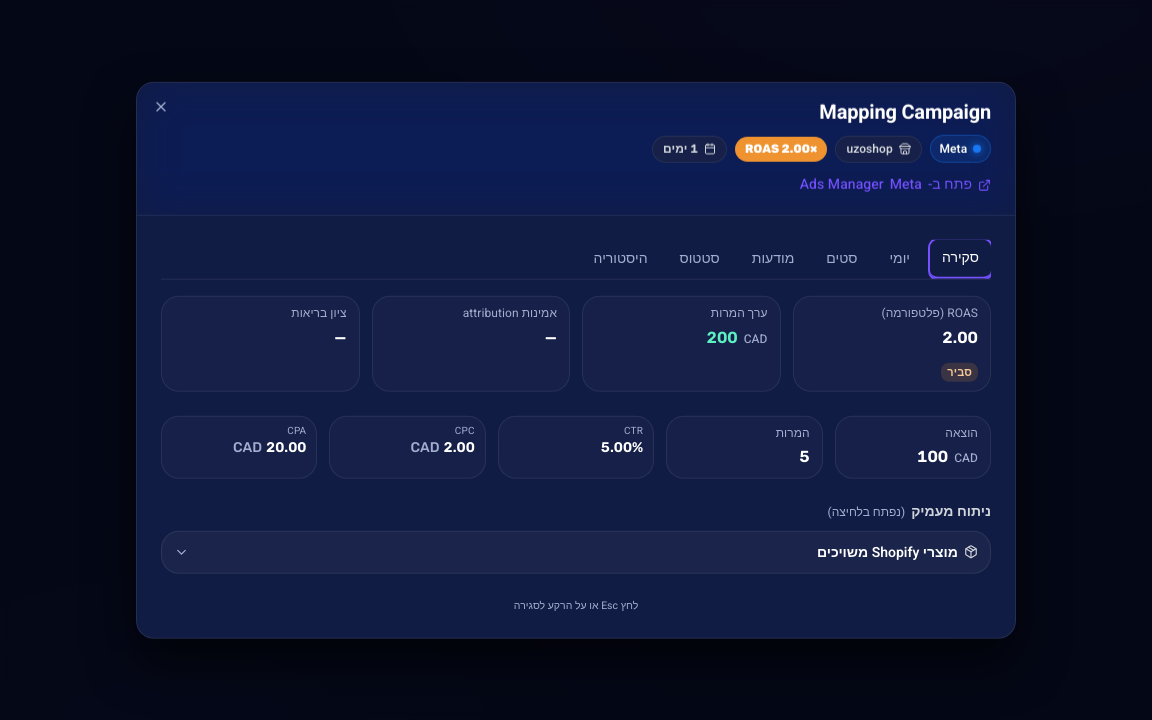
CampaignDrawer — ad-set product mapping wiring › per-ad-set action opens the picker in AD-SET scope
Press the mouse on the tab with test id "campaign-drawer-tab-trigger-adsets" at x=842, y=259, box [814, 240, 870, 279]
Press the mouse on the tab with test id "campaign-drawer-tab-trigger-adsets" at x=842, y=259, box [814, 240, 870, 279]
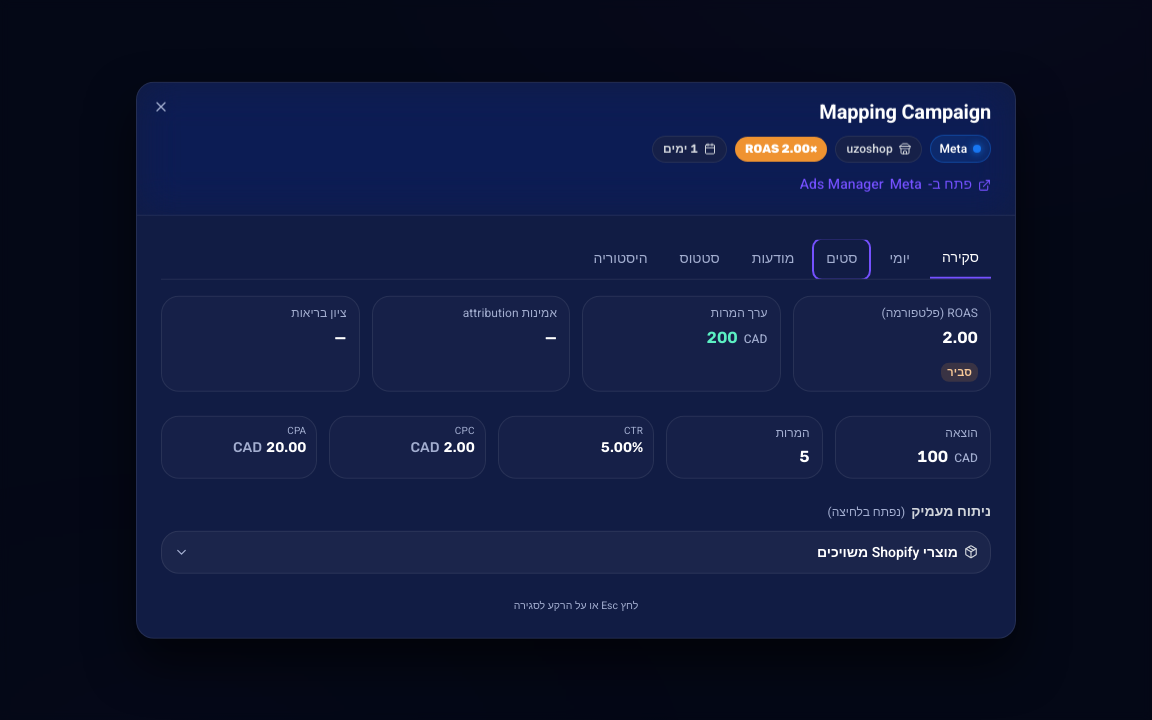
Click the tab with test id "campaign-drawer-tab-trigger-adsets" at x=842, y=259, box [814, 240, 870, 279]
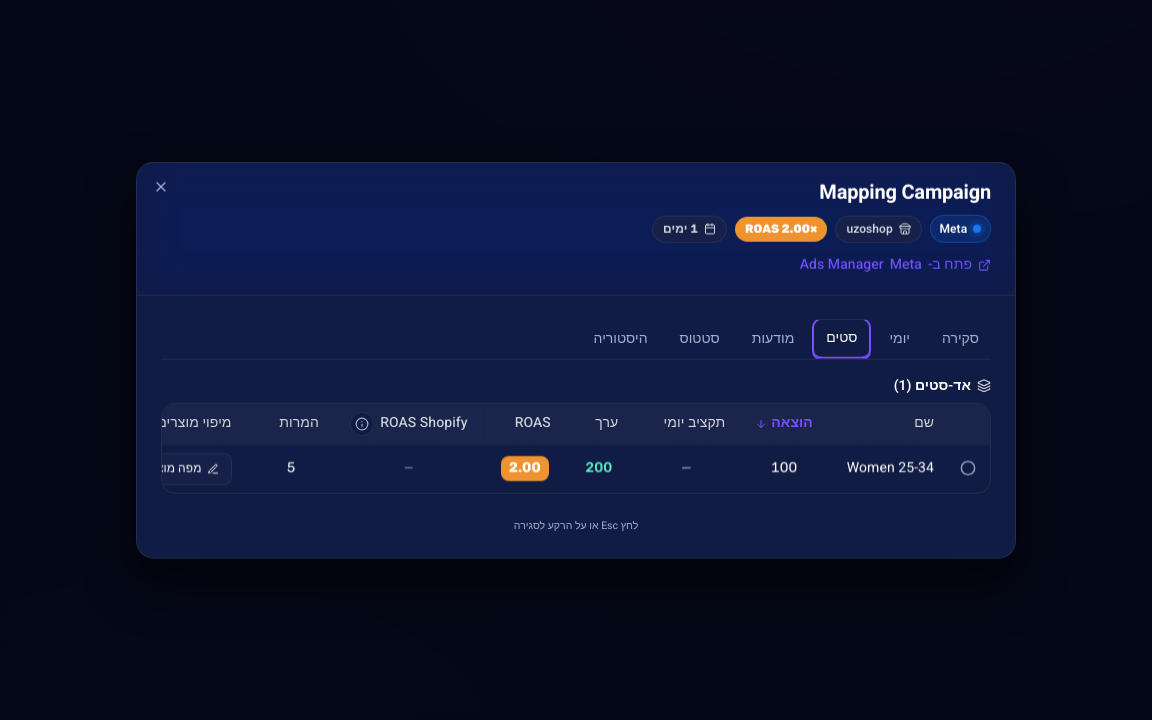
Click the button "מפה מוצרים" at x=179, y=468, box [126, 452, 232, 484]
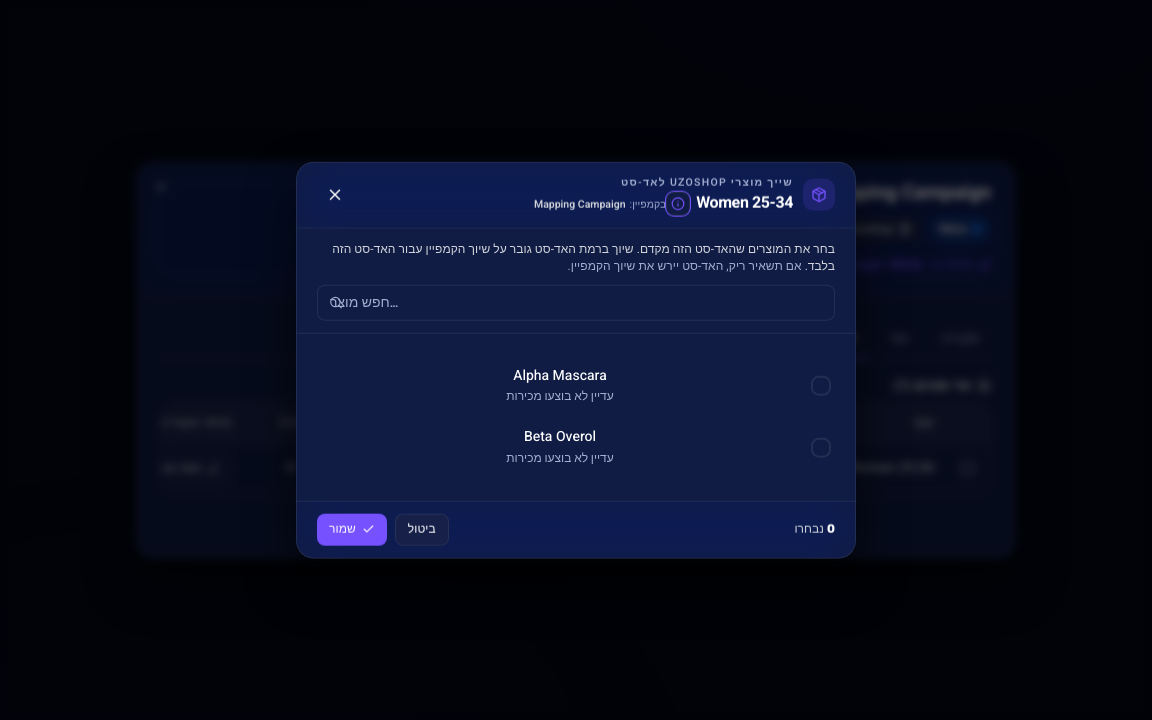
expect the dialog that starts with "שייך מוצרי uzoshop לאד-סט" is shown: met, box [621, 175, 793, 190]
expect the dialog that starts with "שייך מוצרי uzoshop לאד-סט" shows "Women 25-34": met, box [696, 191, 793, 215]
